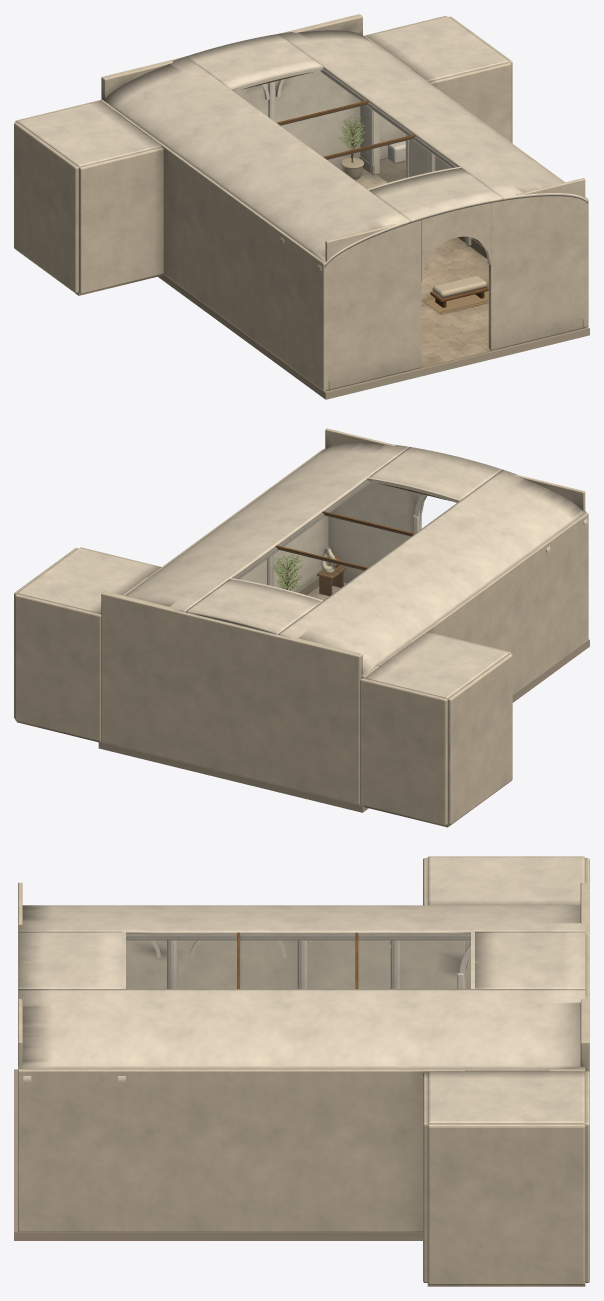
File: hall.glb
3 renders of one model, top to bottom at view 1: azimuth 30°, elevation 25°; view 2: azimuth 150°, elevation 25°; view 3: azimuth 270°, elevation 25°, orthographic. The views are drawn at different scales.
Visible parts, largest first — view 1: Architecture · Sand lime plaster, Architecture · Warm vaulted plaster, Architecture · Fine warm mortar, Architecture · Sand travertine 1, Architecture · Sand travertine 2, Architecture · Sand travertine 3, Architecture · Sand travertine 0, Architecture · Natural walnut grain, Architecture · Natural linen, Architecture · Woven natural jute; view 2: Architecture · Sand lime plaster, Architecture · Warm vaulted plaster, Architecture · Fine warm mortar, Architecture · Natural walnut grain; view 3: Architecture · Sand lime plaster, Architecture · Warm vaulted plaster, Architecture · Fine warm mortar.
Boxes of the visible parts, x1=… form: Architecture · Sand lime plaster: x1=14, y1=14, x2=588, y2=391; Architecture · Warm vaulted plaster: x1=17, y1=16, x2=587, y2=348; Architecture · Fine warm mortar: x1=158, y1=274, x2=589, y2=399; Architecture · Sand travertine 1: x1=75, y1=158, x2=585, y2=390; Architecture · Sand travertine 2: x1=341, y1=170, x2=574, y2=377; Architecture · Sand travertine 3: x1=359, y1=182, x2=552, y2=383; Architecture · Sand travertine 0: x1=337, y1=187, x2=531, y2=388; Architecture · Natural walnut grain: x1=241, y1=71, x2=488, y2=307; Architecture · Natural linen: x1=432, y1=275, x2=486, y2=297; Architecture · Woven natural jute: x1=422, y1=291, x2=488, y2=314; Architecture · Sand lime plaster: x1=14, y1=428, x2=588, y2=825; Architecture · Warm vaulted plaster: x1=17, y1=443, x2=587, y2=698; Architecture · Fine warm mortar: x1=98, y1=639, x2=589, y2=812; Architecture · Natural walnut grain: x1=275, y1=482, x2=449, y2=596; Architecture · Sand lime plaster: x1=18, y1=856, x2=589, y2=1284; Architecture · Warm vaulted plaster: x1=18, y1=857, x2=585, y2=1123; Architecture · Fine warm mortar: x1=14, y1=1069, x2=422, y2=1240.
Size of the model in its own units: 20.3 by 7.05 by 18.27.
26 materials, 12 textured.
